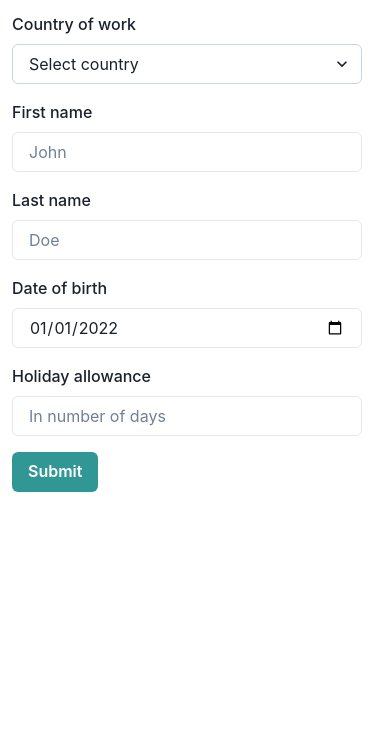
Test: Shows errors when fields are missing
Select "Spain" in the dropdown labelled "Country of work" at (187, 64), box [12,44,362,84]
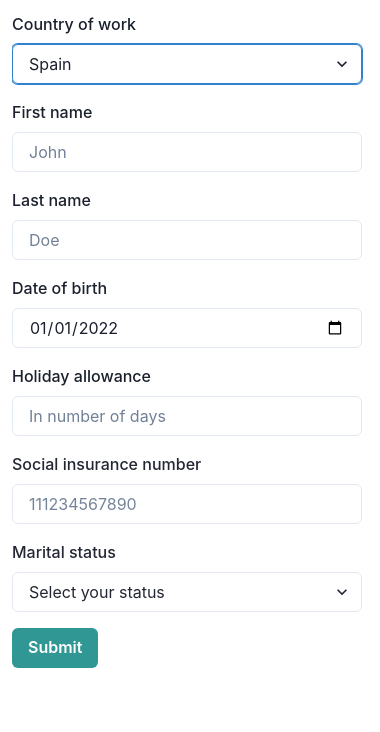
Click the button "Submit" at (55, 648), box [12,628,98,668]
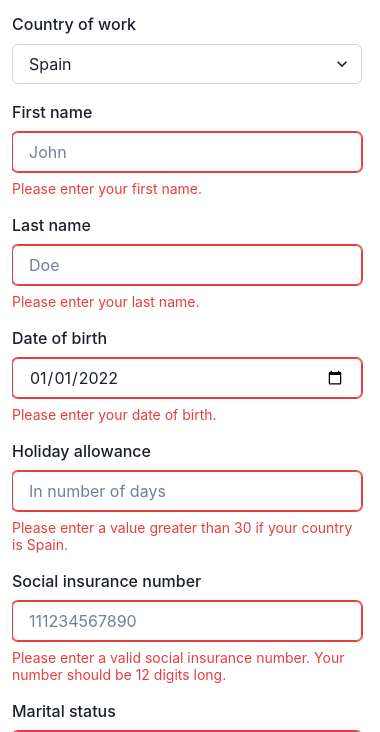
Result: the text with test id "firstNameError" reads "Please enter your first name." at [12,180,202,197]
Result: the text with test id "socialInsuranceNumberError" is shown at [12,649,362,683]
Result: the text with test id "socialInsuranceNumberError" shows "Please enter a valid social insurance number." at [12,649,344,683]
